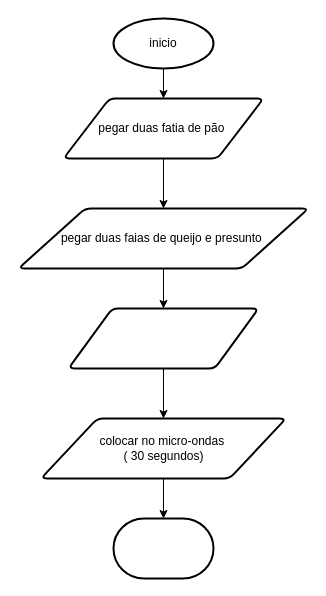
Some shapes in this 326 by 596 pixel diagram are drawn without their labels. Here are the shapes that lost their labels. From the top down, the centre of each, then its label:
At (163,338): "montar o sanduiche".
At (163,548): "fim".
